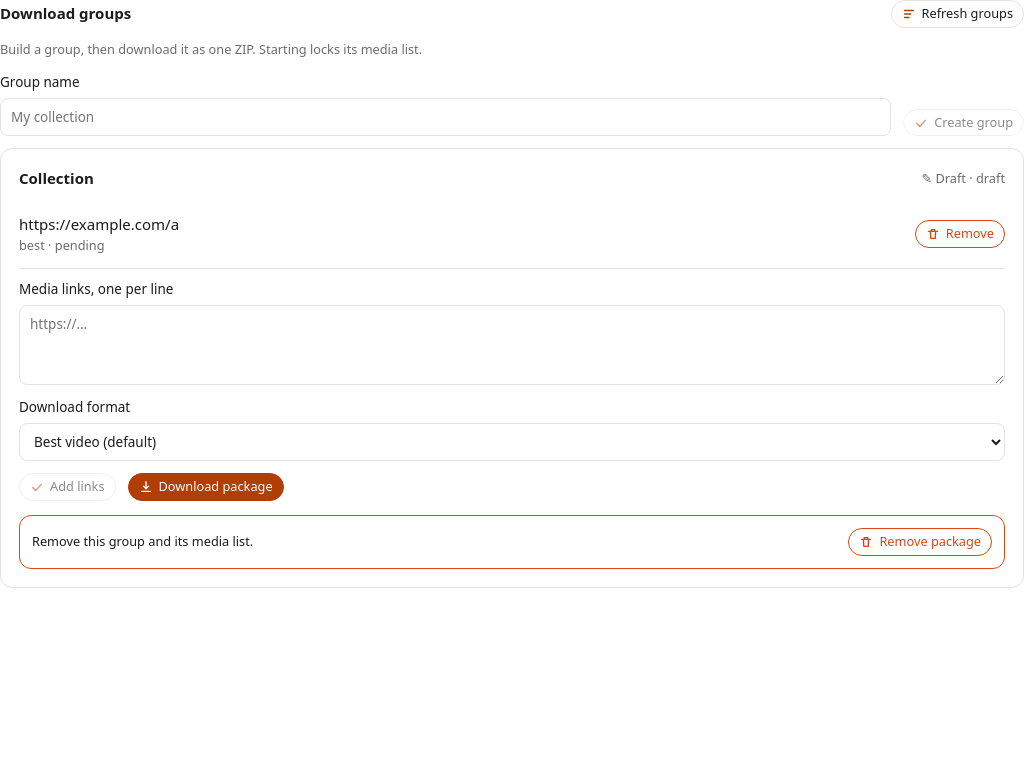
Test case: shows a refused start inside the confirmation and allows retry without locking the draft
The width and height of the screenshot is (1024, 768).
Click the button "Download package": coordinates (206, 487) [128,473,284,501]
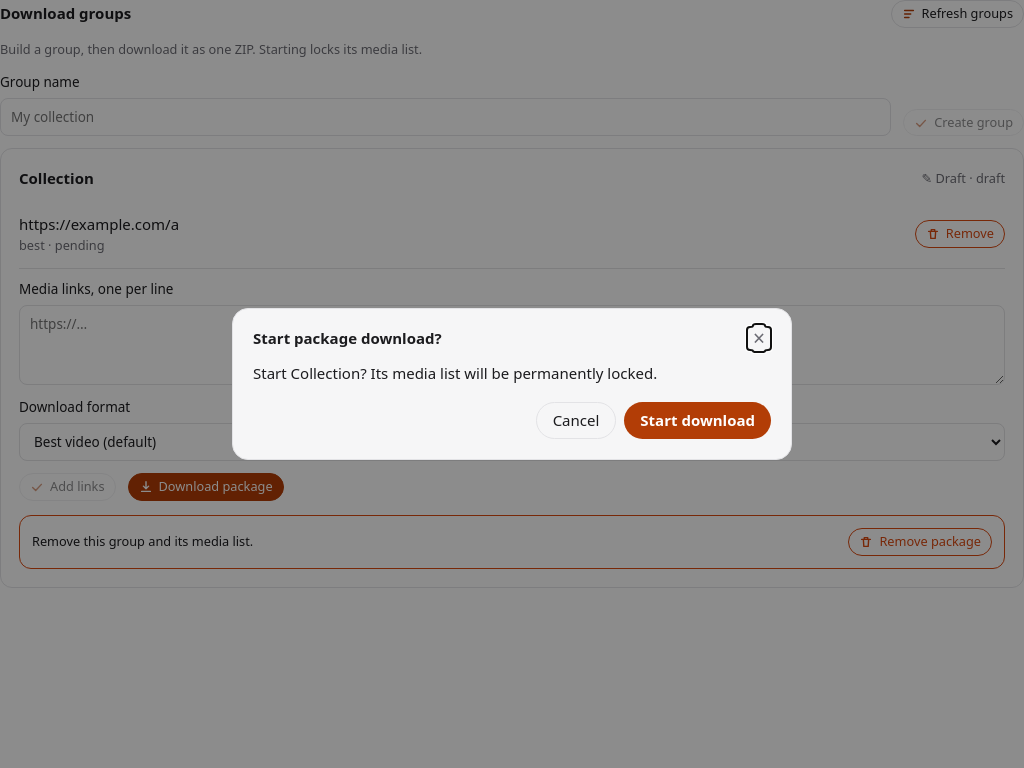
Click the button with class "confirm": coordinates (698, 420) [624,402,771,439]
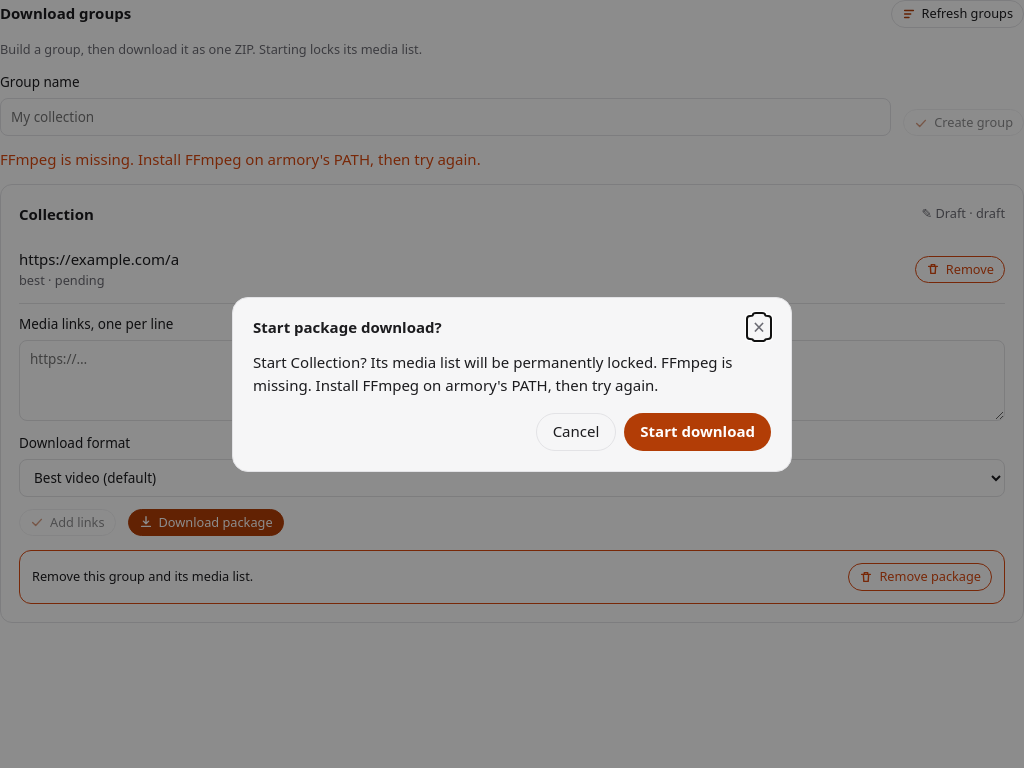
Expected: the text "✎ Draft" is shown, [922,204,1005,222]
Now the dialog shows "permanently locked", box [253,352,733,395]
Now the dialog shows "FFmpeg is missing. Install FFmpeg on armory's PATH, then try again.", box [253,352,733,395]
Click the button with class "confirm": coordinates (698, 432) [624,413,771,451]
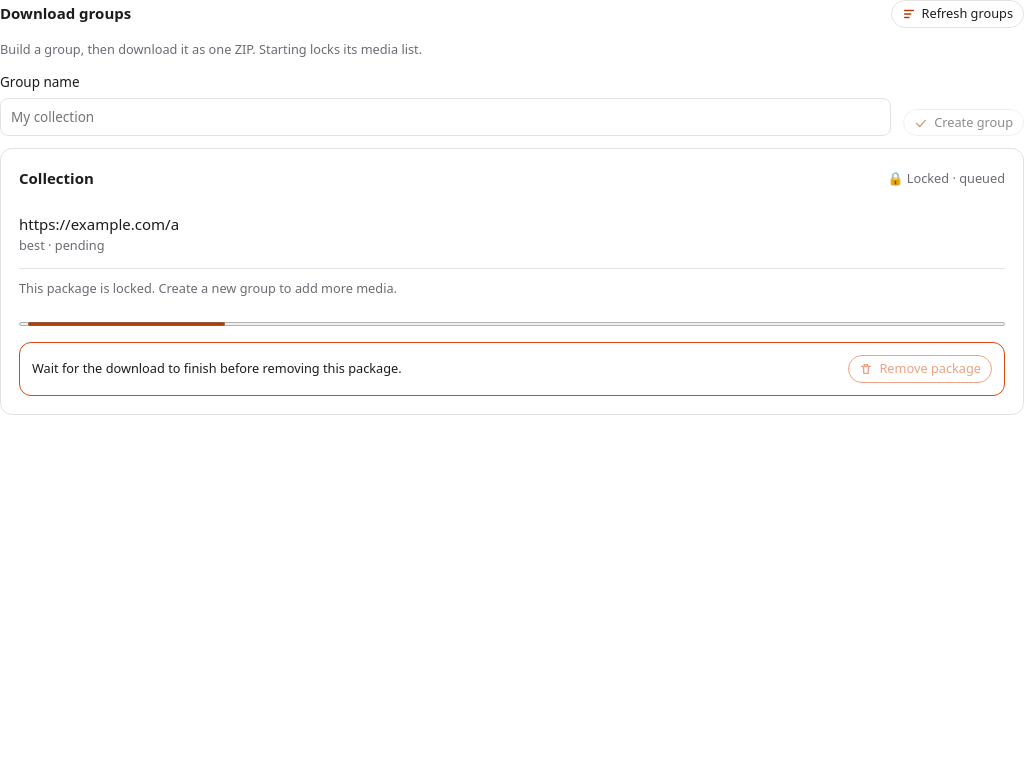
Now the text "🔒 Locked" is shown, box [888,169,1005,187]
